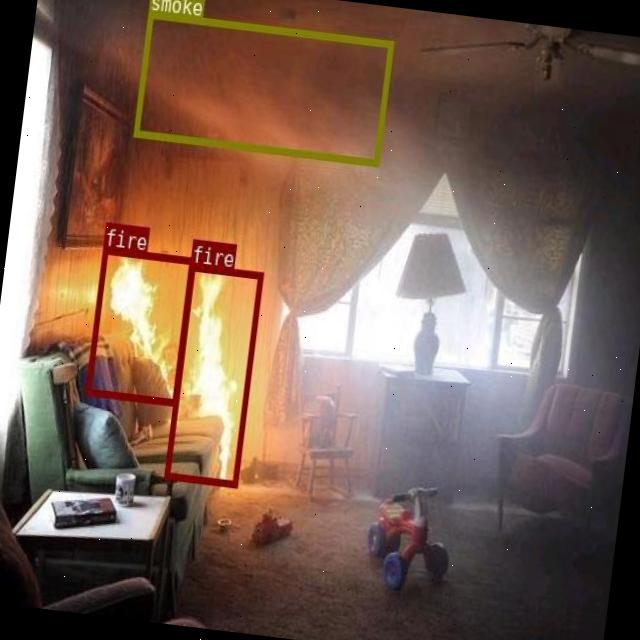fire: (162, 262, 262, 486), (84, 246, 192, 404)
smoke: (132, 10, 393, 166)
